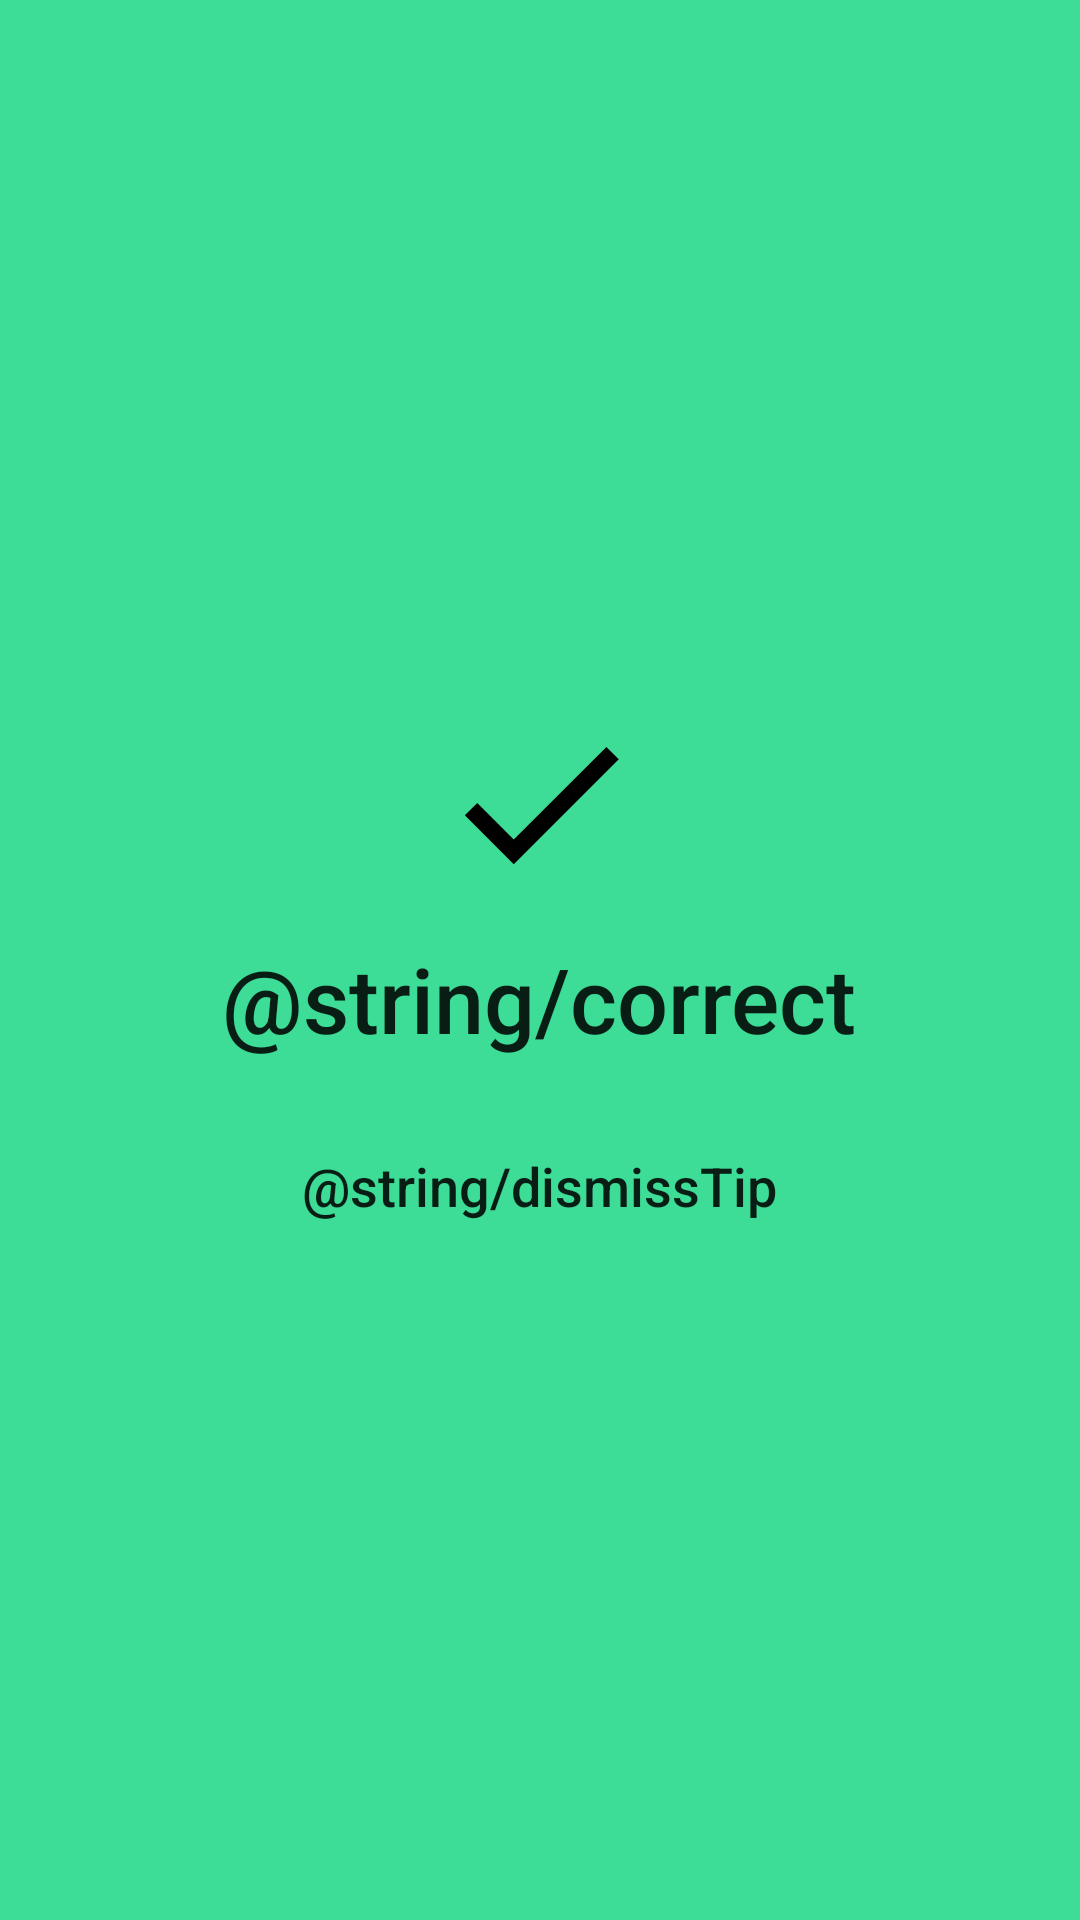

Icon click points for this 1080x1920 phone screenshot, format (x,y):
check: (542,805)
